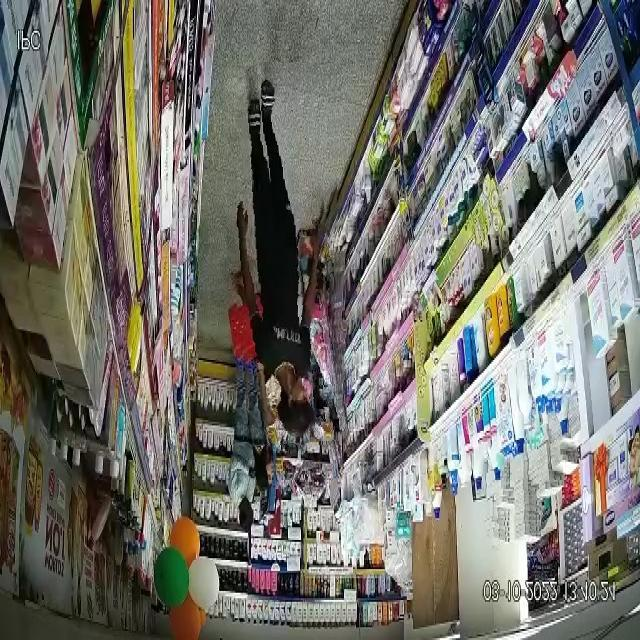Normal: (228, 62, 342, 445)
